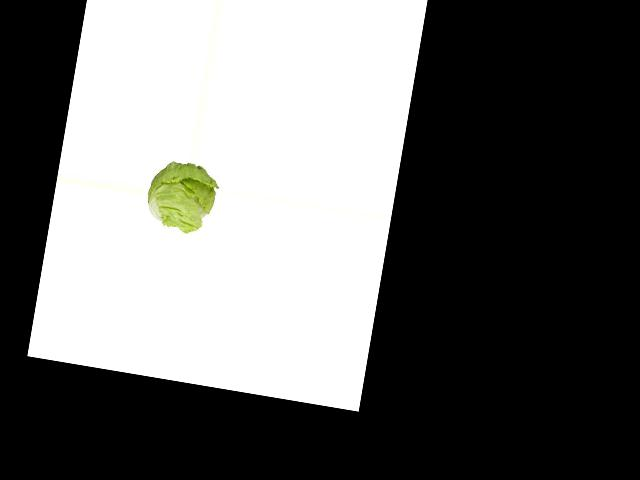lettuce: (141, 157, 220, 234)
